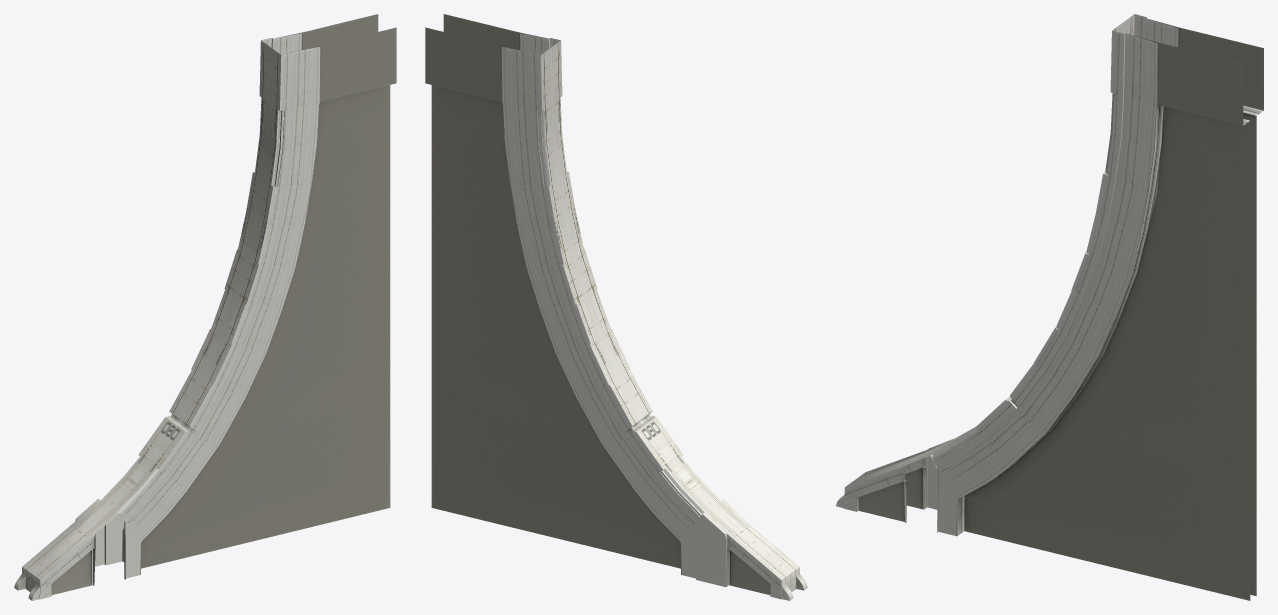
Rendered from STA20_LargeCurveC01.FBX.
3 renders of one model, left to right at view 1: azimuth 30°, elevation 25°; view 2: azimuth 150°, elevation 25°; view 3: azimuth 330°, elevation 25°, orthographic. The views are drawn at different scales.
Parts seen in each view (by area): view 1: STA20_LargeCurveC01; view 2: STA20_LargeCurveC01; view 3: STA20_LargeCurveC01.
Boxes of the visible parts, x1,y1,x2,y2 form: STA20_LargeCurveC01: (14, 14, 396, 600); STA20_LargeCurveC01: (425, 14, 807, 600); STA20_LargeCurveC01: (836, 14, 1263, 600).
Size of the model in its own units: 133 by 170 by 13.86.
